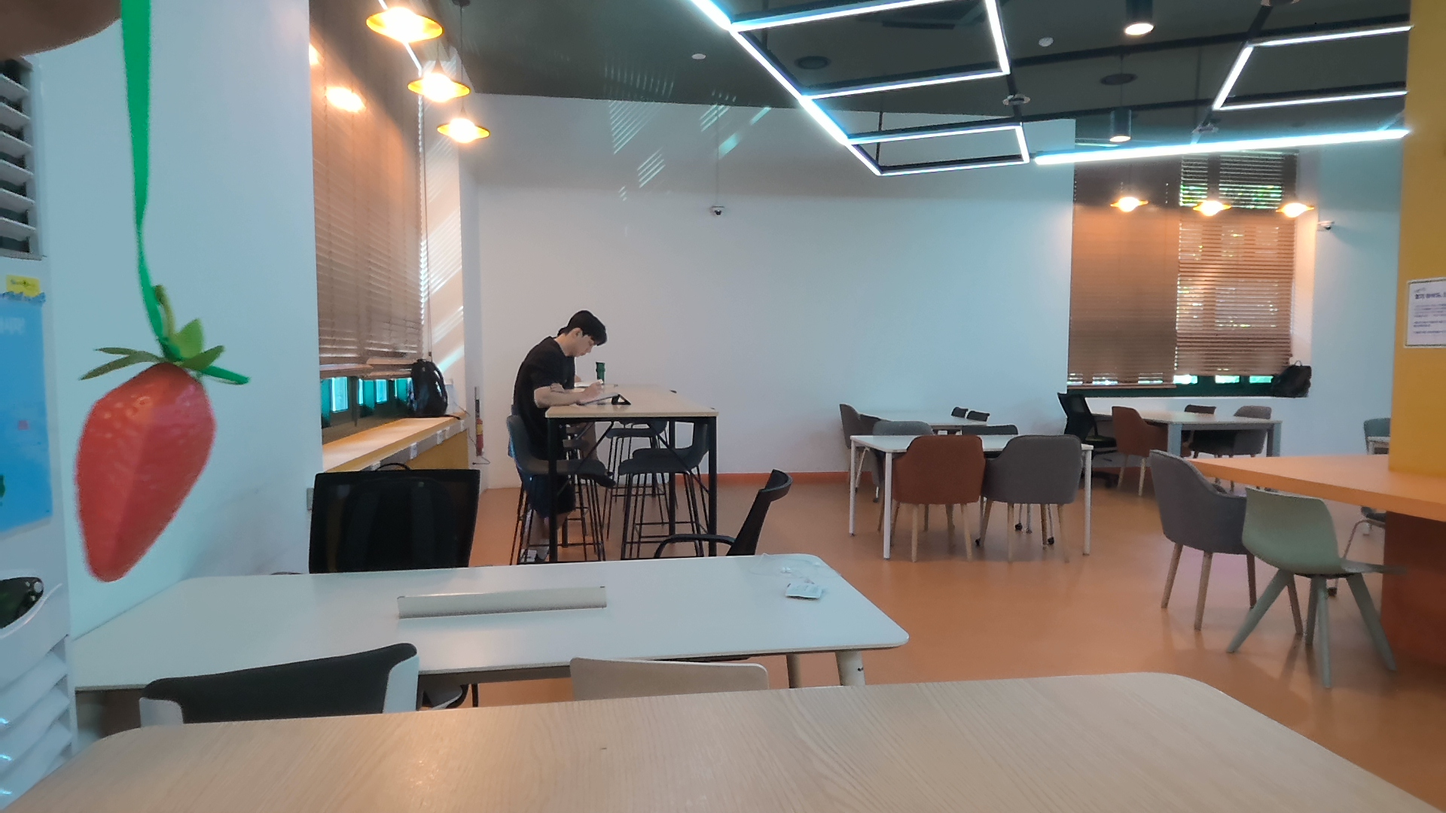strawberry: (55, 349, 234, 586)
